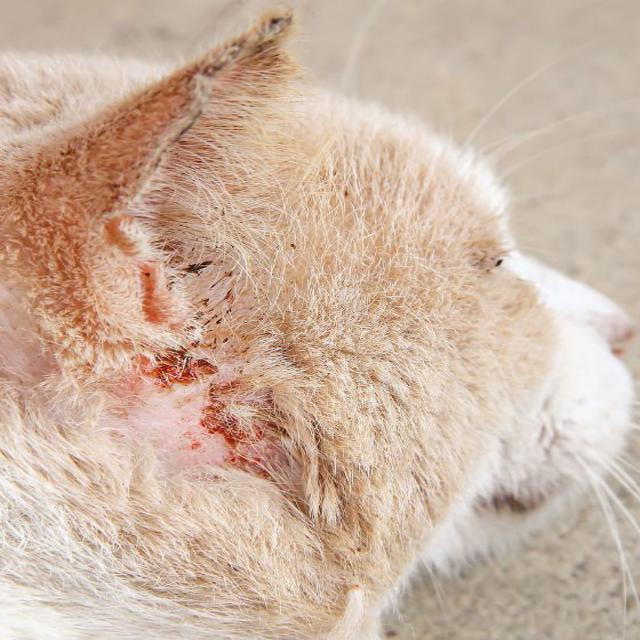ringworm: (143, 261, 285, 495)
